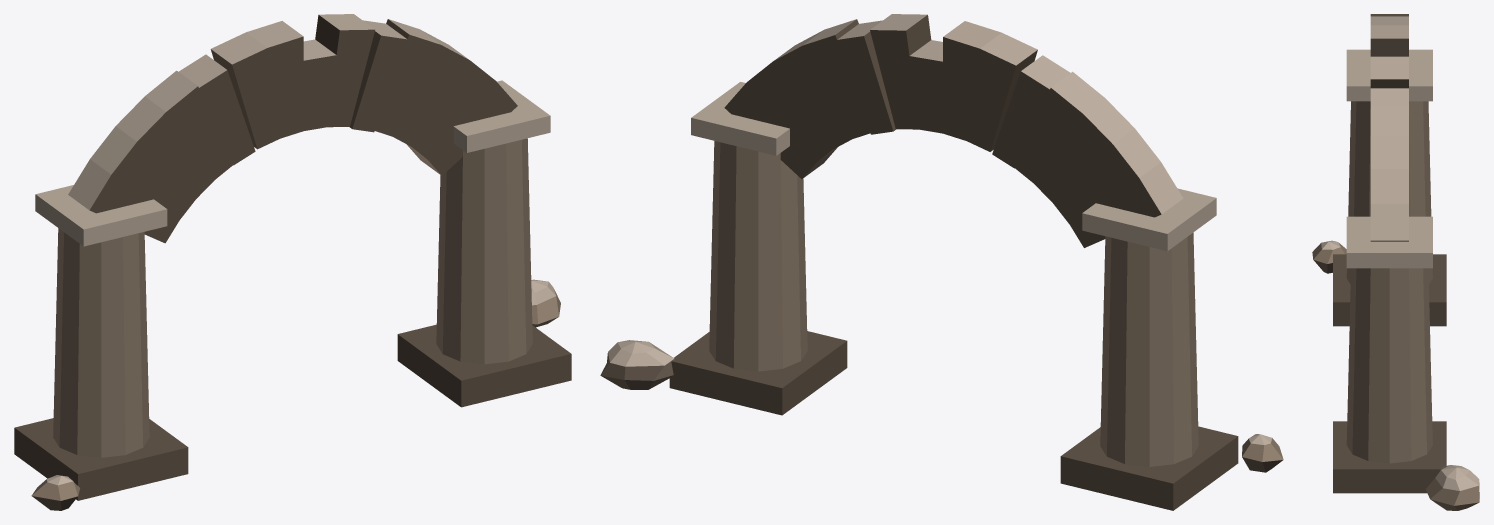
The model's file is RuinArch.fbx.
The picture shows the model from 3 angles, left to right: view 1: azimuth 30°, elevation 25°; view 2: azimuth 150°, elevation 25°; view 3: azimuth 270°, elevation 25°; orthographic projection. The views are drawn at different scales.
Parts seen in each view (by area): view 1: RuinArch; view 2: RuinArch; view 3: RuinArch.
Part boxes in pixels (x1=…): RuinArch: x1=14, y1=14, x2=571, y2=510; RuinArch: x1=600, y1=14, x2=1283, y2=510; RuinArch: x1=1312, y1=14, x2=1479, y2=510.
Size of the model in its own units: 514 by 320 by 140.
